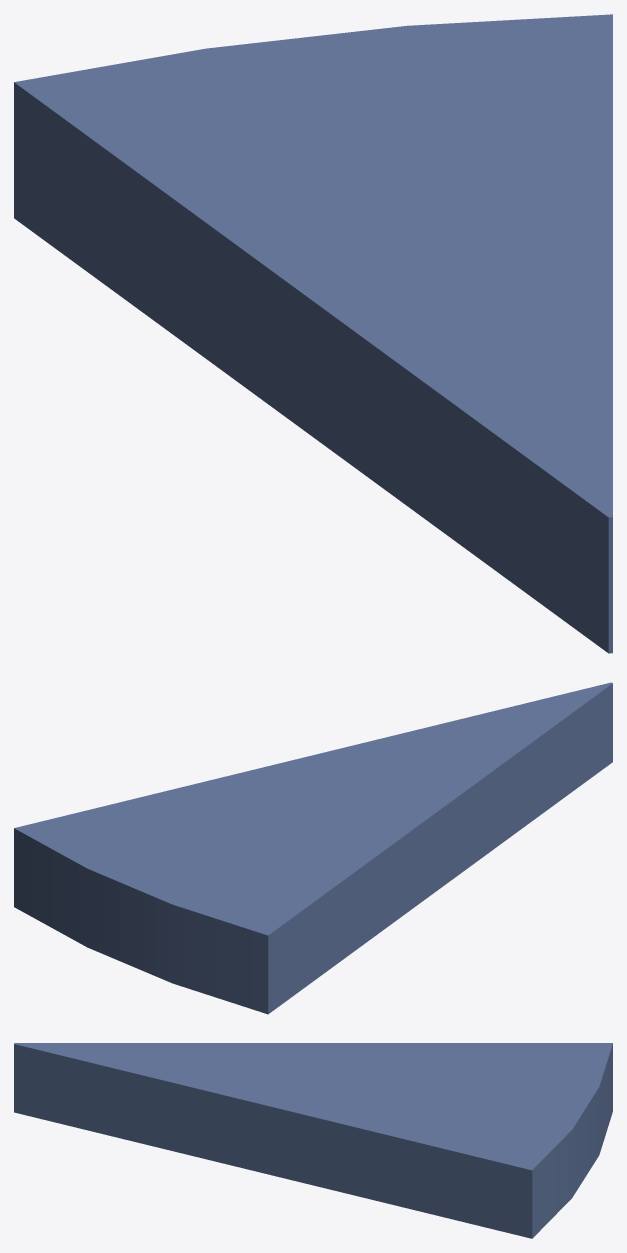
The model's file is Center_Wedge_01.fbx.
The picture shows the model from 3 angles, top to bottom: view 1: azimuth 30°, elevation 25°; view 2: azimuth 150°, elevation 25°; view 3: azimuth 270°, elevation 25°; orthographic projection. The views are drawn at different scales.
Visible parts, largest first — view 1: Center_Wedge_01; view 2: Center_Wedge_01; view 3: Center_Wedge_01.
Boxes of the visible parts, left/top/right/bottom form: Center_Wedge_01: left=14, top=14, right=612, bottom=653; Center_Wedge_01: left=14, top=682, right=612, bottom=1014; Center_Wedge_01: left=14, top=1043, right=612, bottom=1238.
Bounding box in the file's own units: 35.45 × 8.89 × 70.47.
